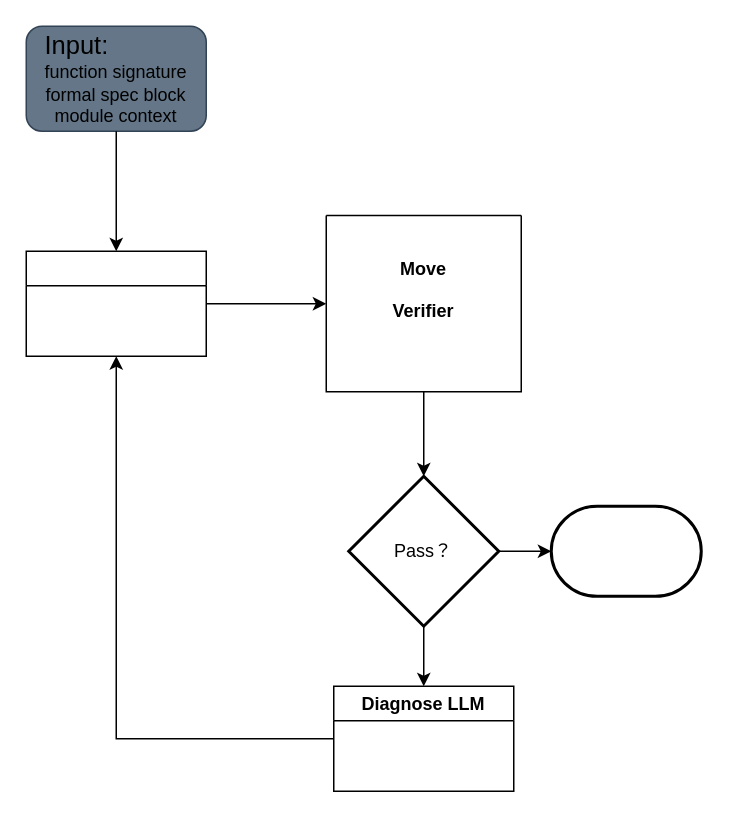
The diagram is 729 pixels wide and 818 high, and some of its shapes have lost their labels. The shapes that lost their labels are listed below. From the top down, each one's centre as x and y in pixels, then its label:
At pixel 115 303: "Codegen LLM".
At pixel 625 550: "Success".
